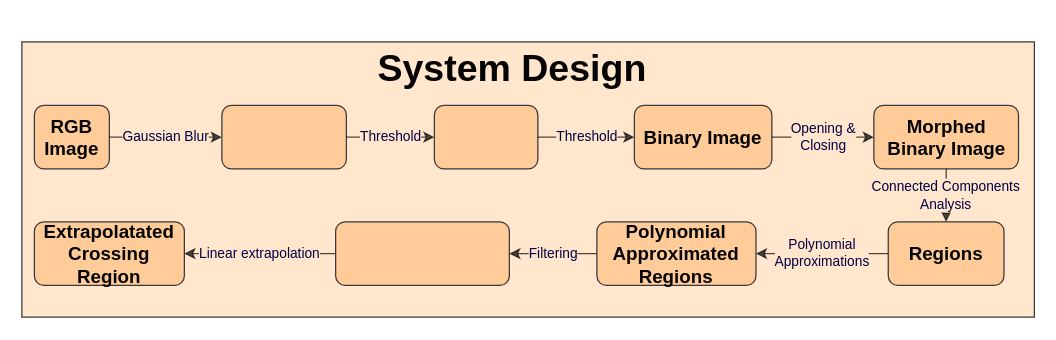
Some shapes in this 1056 by 340 pixel diagram are drawn without their labels. The box of each missing label's shape, as (x1, y1, x2, y2) in pixels:
Filtered Quadrilaterals Regions: (334, 221, 509, 285)
Greyscale Image: (433, 104, 538, 169)
Smoothed RGB Image: (221, 104, 346, 169)
